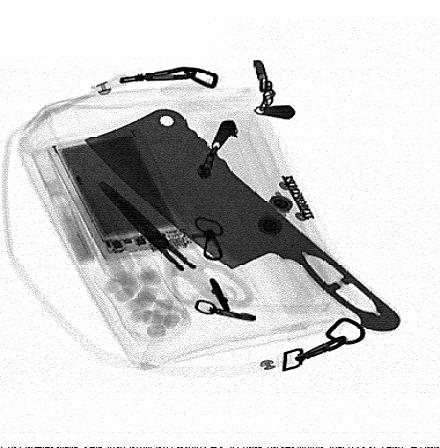Knife: (86, 109, 401, 331)
Powerbank: (51, 123, 196, 262)
Scissors: (95, 179, 260, 314)
